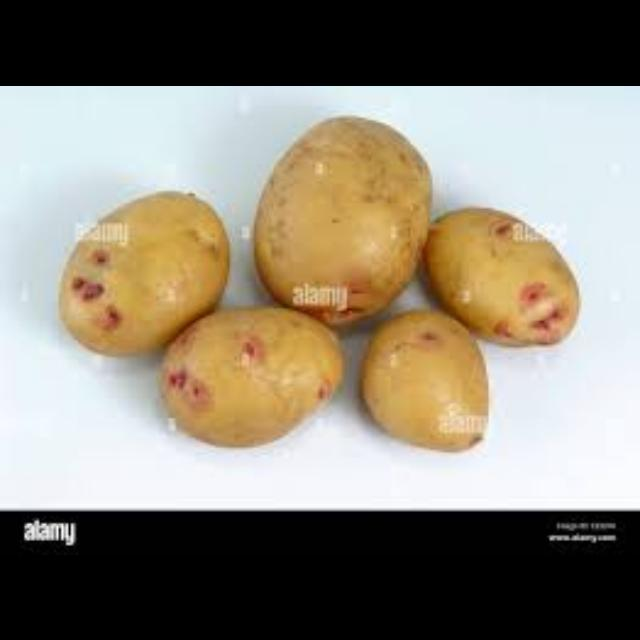Diseased-fungal potato: (246, 108, 438, 334), (54, 186, 240, 352), (145, 299, 347, 451), (414, 203, 598, 357), (362, 306, 492, 474)
